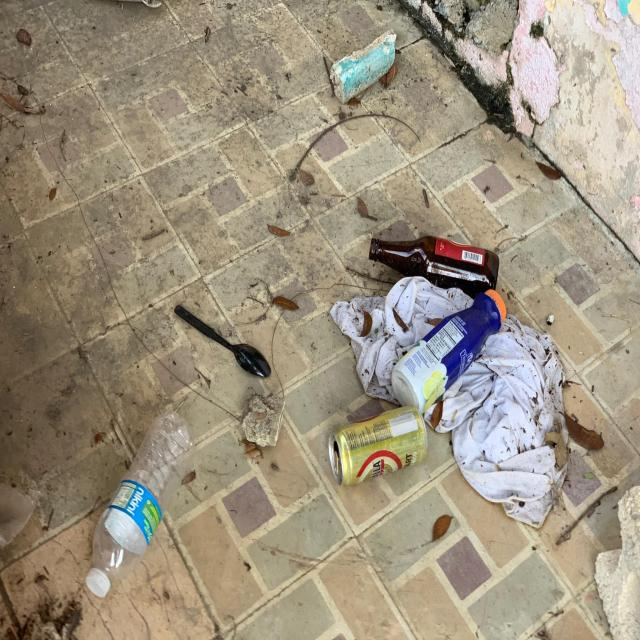litter: (423, 314, 568, 528), (329, 279, 473, 406), (93, 412, 196, 580), (392, 292, 501, 415), (369, 235, 499, 300), (328, 405, 428, 485), (175, 306, 272, 377), (86, 567, 110, 597), (485, 289, 506, 321), (333, 452, 337, 472)
